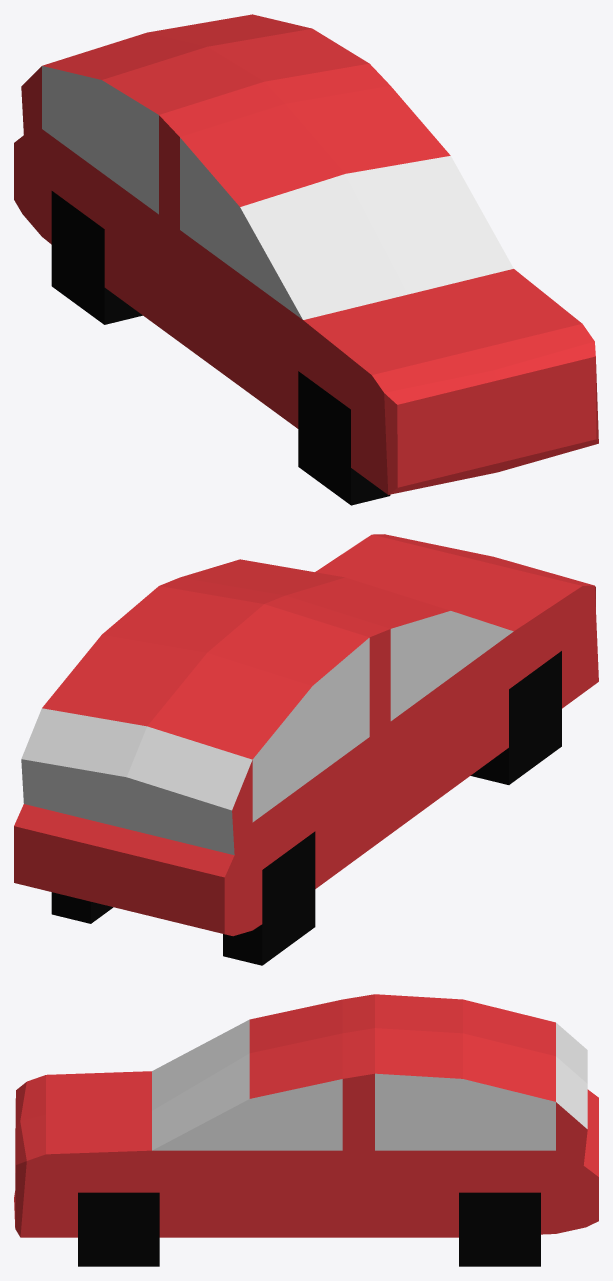
The model's file is Hatchback.fbx.
3 views of the same model, one above another, from view 1: azimuth 30°, elevation 25°; view 2: azimuth 150°, elevation 25°; view 3: azimuth 270°, elevation 25° (orthographic). The views are drawn at different scales.
Visible parts, largest first — view 1: Hatchback; view 2: Hatchback; view 3: Hatchback.
Part boxes in pixels (<box>): Hatchback: <box>14,14,598,505</box>; Hatchback: <box>14,534,598,965</box>; Hatchback: <box>14,994,598,1266</box>.
Bounding box in the file's own units: 1.84 × 2.15 × 5.73.
